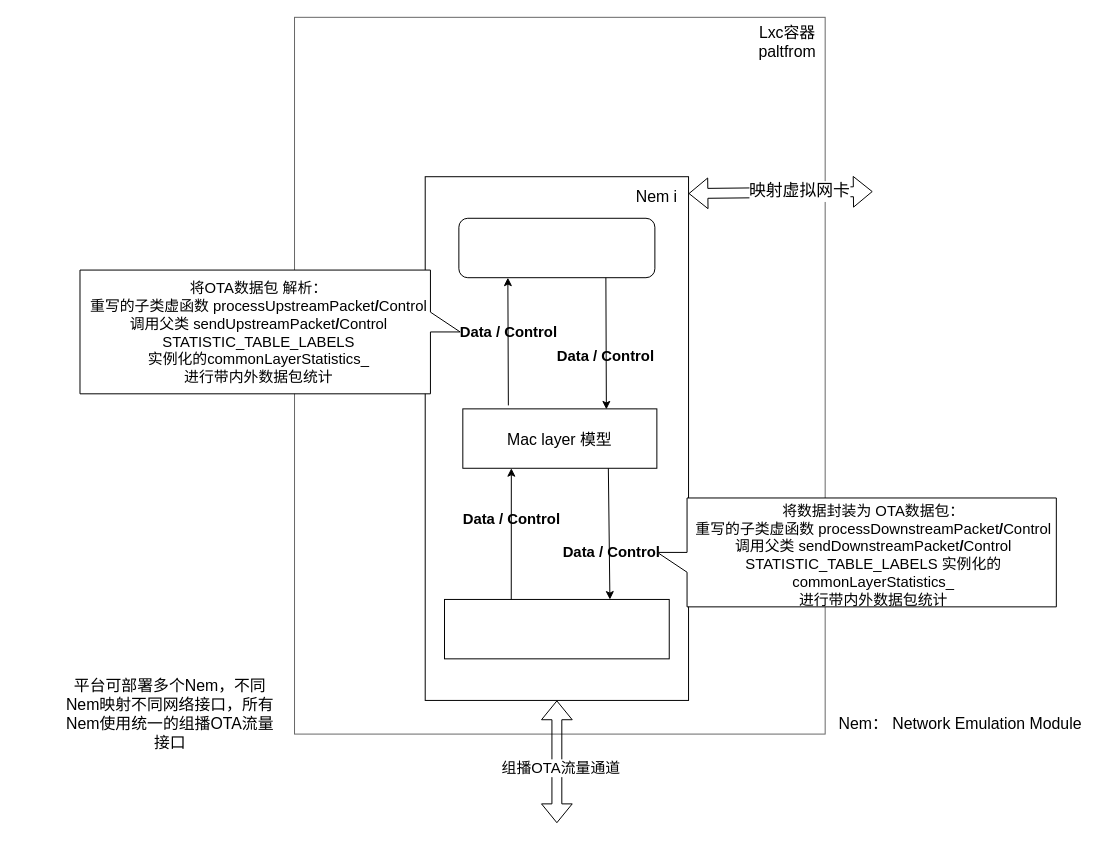
Some shapes in this 1105 by 841 pixel diagram are drawn without their labels. The box of each missing label's shape, as (x1, y1, x2, y2) in pixels:
Phy layer、shim layer 实例对象: (444, 598, 669, 659)
传输插件: (458, 217, 655, 278)
